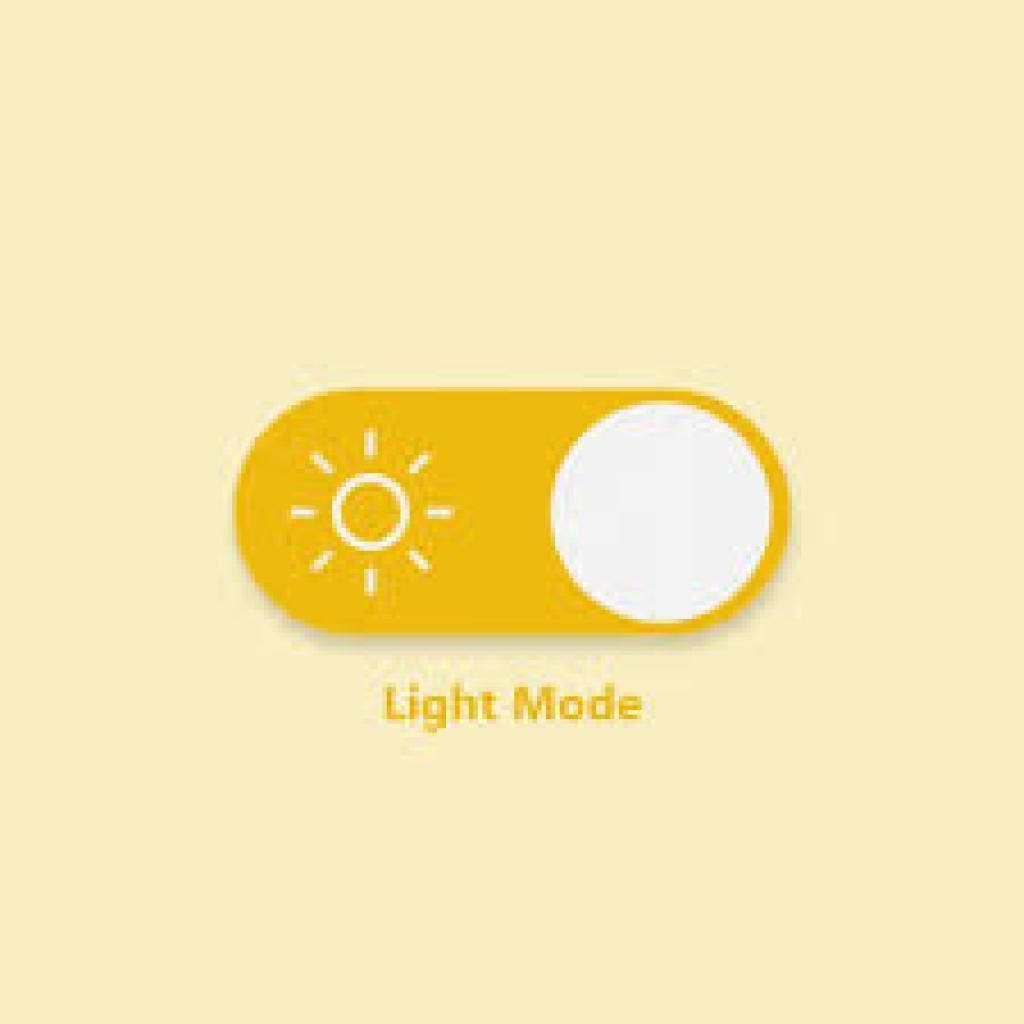switch: (236, 393, 793, 640)
